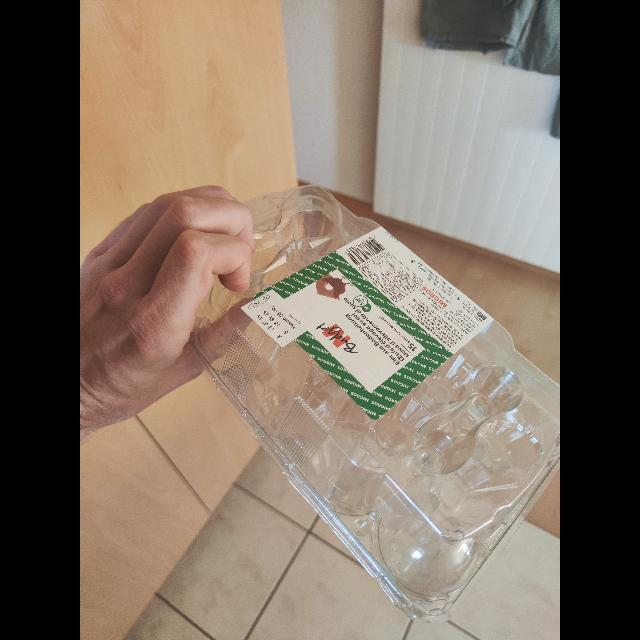Plastic: (187, 181, 558, 623)
